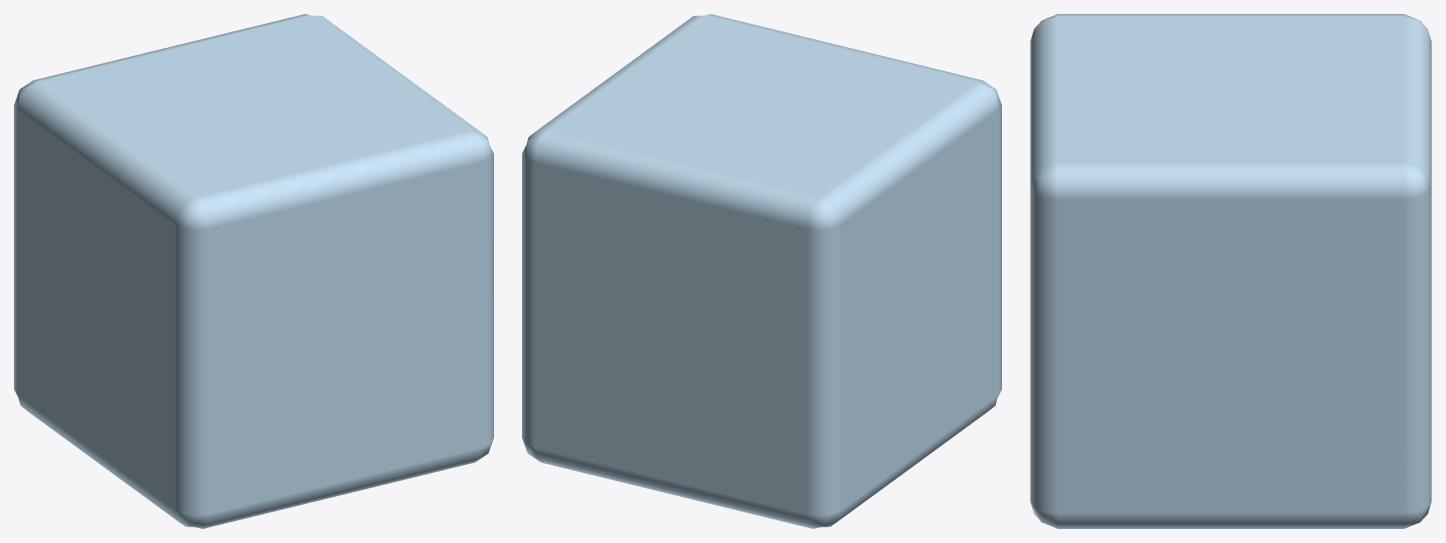
3 views of the same model, side by side, from view 1: azimuth 30°, elevation 25°; view 2: azimuth 150°, elevation 25°; view 3: azimuth 270°, elevation 25° (orthographic). The views are drawn at different scales.
Visible parts, largest first — view 1: R4B_Cube; view 2: R4B_Cube; view 3: R4B_Cube.
Part boxes in pixels (x1=…): R4B_Cube: x1=14, y1=14, x2=493, y2=528; R4B_Cube: x1=522, y1=14, x2=1001, y2=528; R4B_Cube: x1=1030, y1=14, x2=1431, y2=528.
Size of the model in its own units: 0.52 by 0.52 by 0.52.
